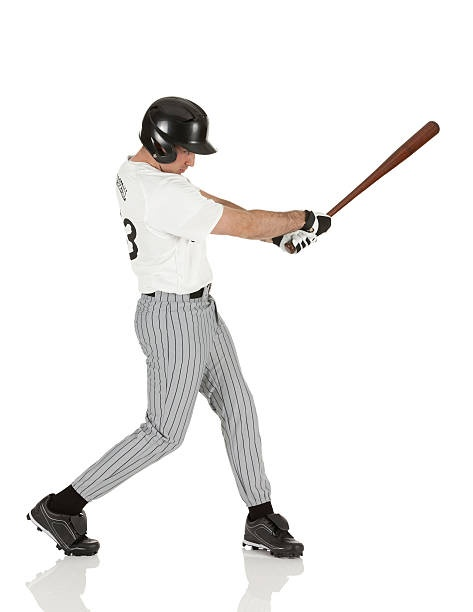bita: (313, 117, 439, 234)
